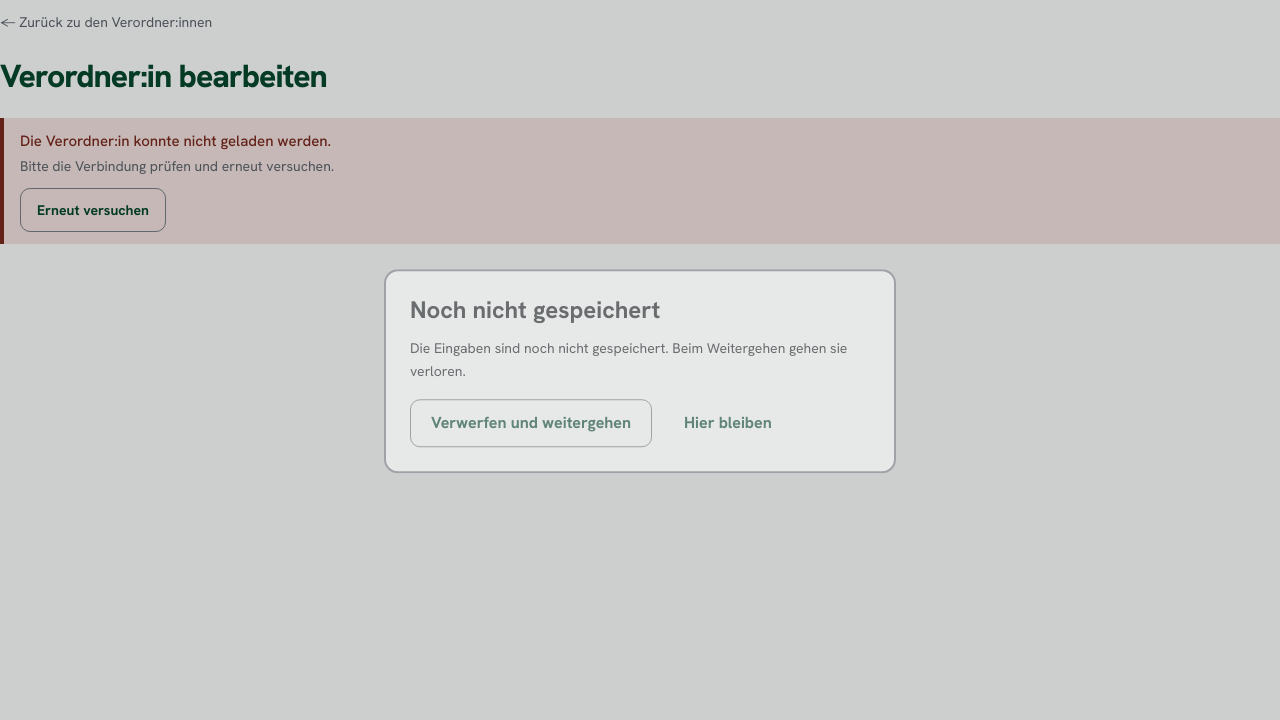
Test: EditPrescriberPage › bietet nach einem Ladefehler einen neuen Versuch an (WRT-01)
Expected: the message shows "Die Verordner:in konnte nicht geladen werden.", x1=20 y1=131 x2=331 y2=151
Expected: the message shows "Bitte die Verbindung prüfen und erneut versuchen.", x1=20 y1=157 x2=334 y2=175
Click the button "Erneut versuchen" at x=93, y=210, box x1=20 y1=188 x2=166 y2=232
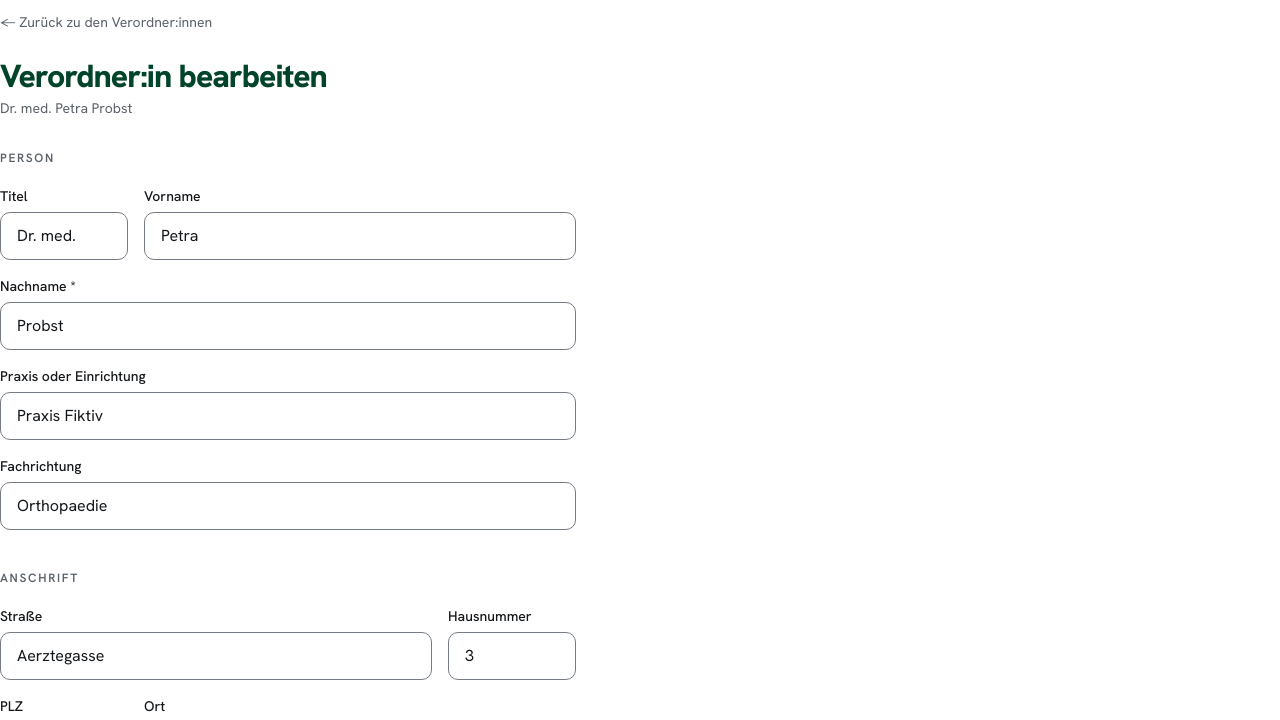
Result: the field labelled "Nachname *" holds "Probst" at x1=0 y1=302 x2=576 y2=350
